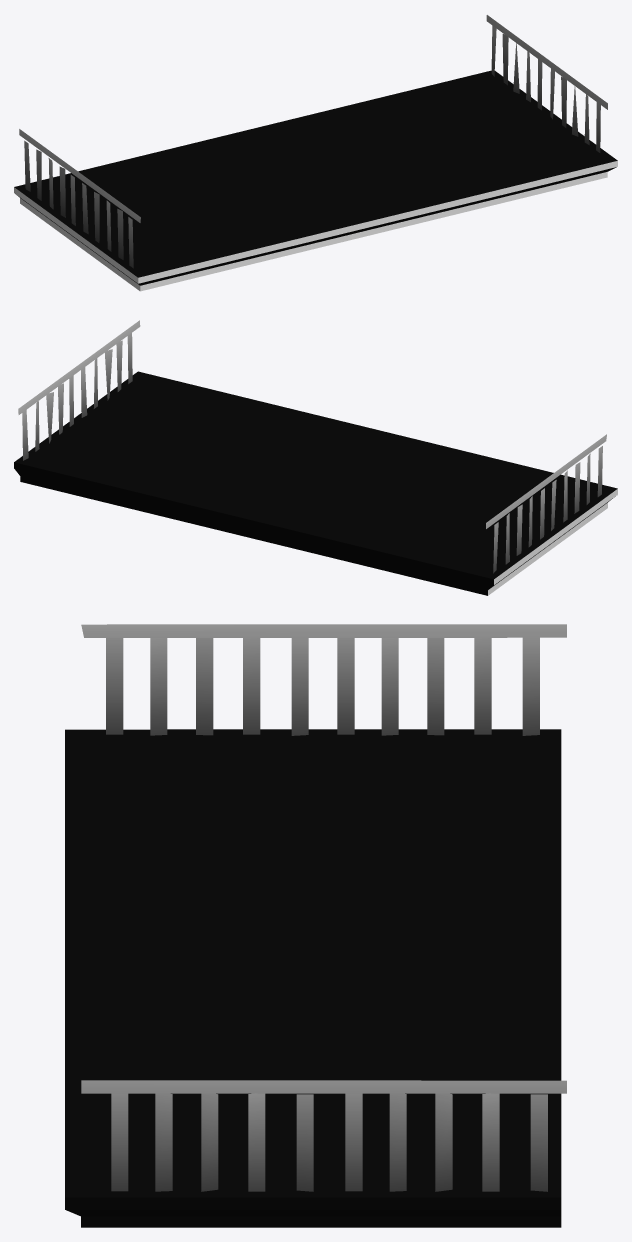
File: Porch4.glb
3 views of the same model, one above another, from view 1: azimuth 30°, elevation 25°; view 2: azimuth 150°, elevation 25°; view 3: azimuth 270°, elevation 25° (orthographic). The views are drawn at different scales.
Visible parts, largest first — view 1: Porch4; view 2: Porch4; view 3: Porch4.
Boxes of the visible parts, <box> form: Porch4: <box>14,15,617,291</box>; Porch4: <box>14,320,617,595</box>; Porch4: <box>65,624,566,1227</box>.
Size of what is drawn, in the model's own units: 12.05 by 1.77 by 5.46.
1 material, 1 textured.
